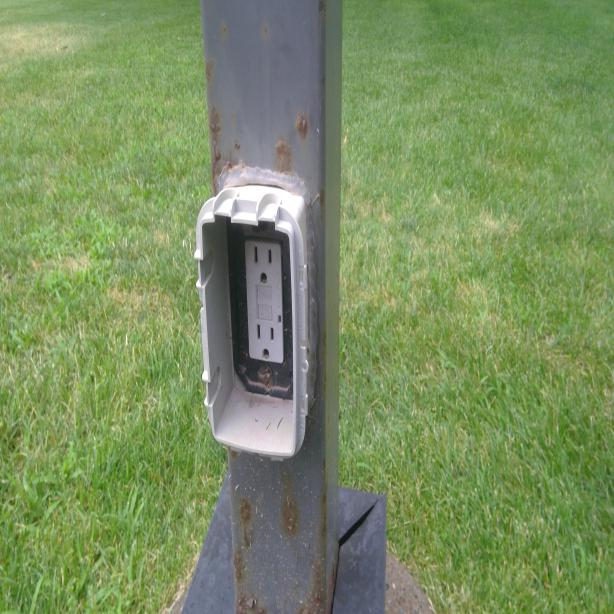typeb: (244, 242, 279, 291), (245, 320, 281, 362)
